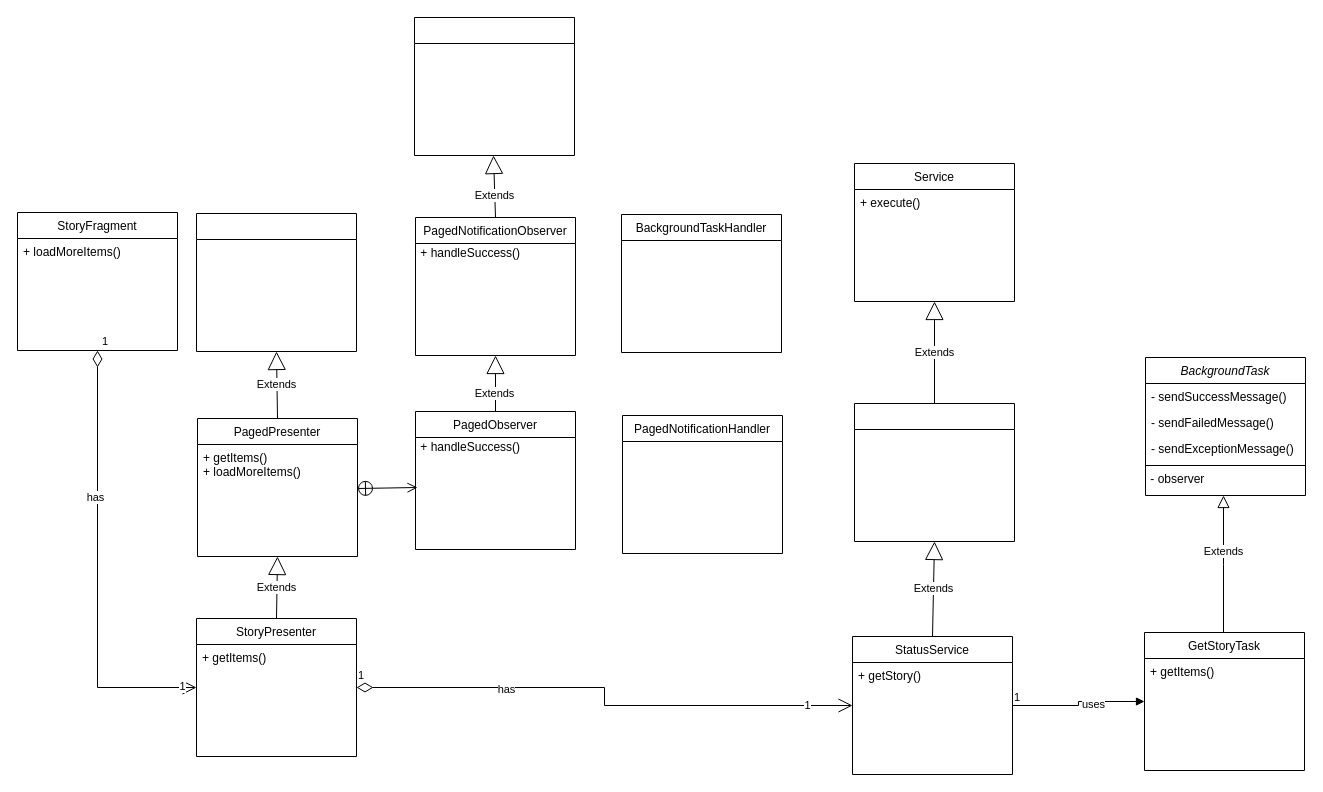
Image size: 1323x792. Some labels were removed from this diagram. The centre of each missing label's shape, as x and y in pixels:
"GetUserService" goes at (934,472).
"Presenter" goes at (276,282).
"ServiceObserver" goes at (494,86).
